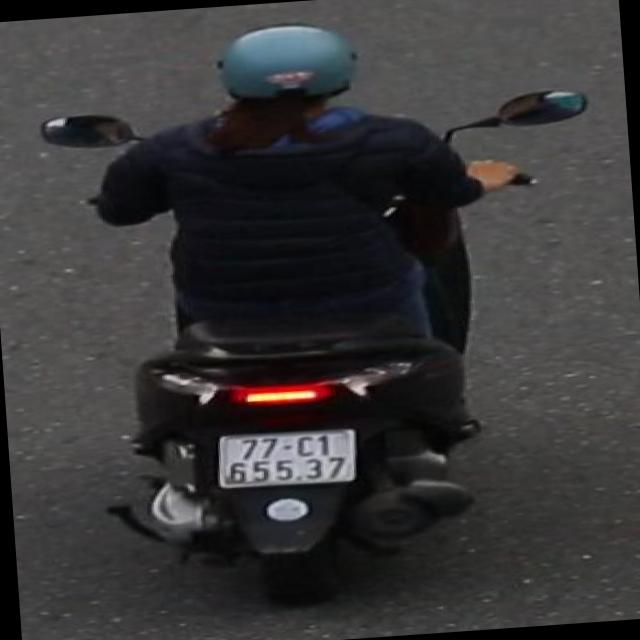LP: (205, 419, 370, 494)
helmet: (198, 17, 370, 132)
